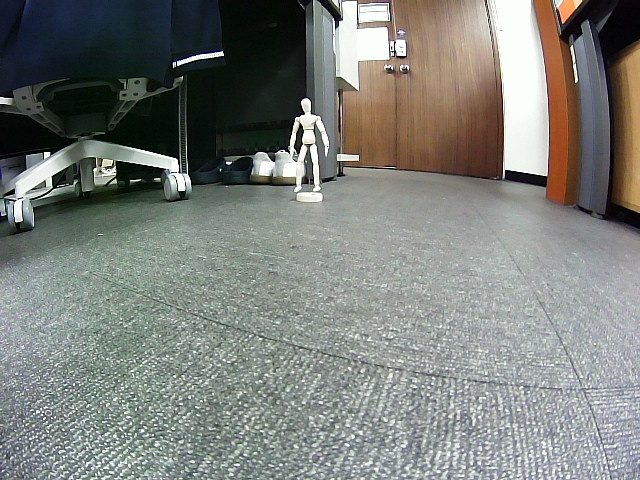person: (289, 97, 329, 193)
